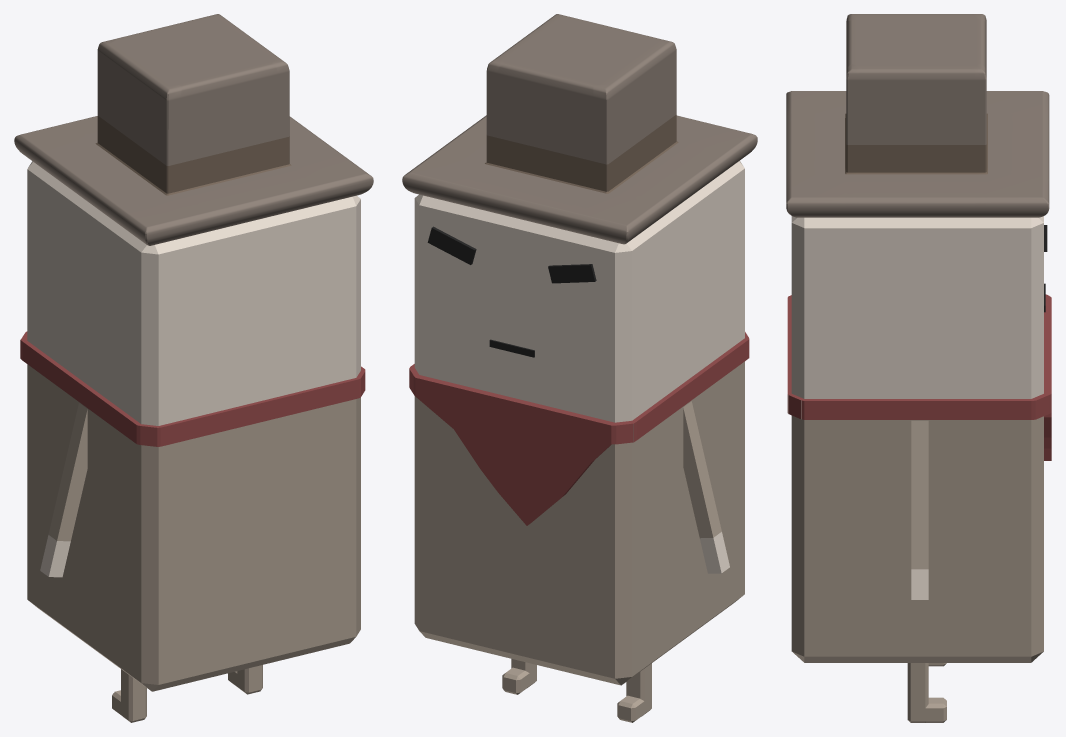
File: Character Model.fbx
3 renders of one model, left to right at view 1: azimuth 30°, elevation 25°; view 2: azimuth 150°, elevation 25°; view 3: azimuth 270°, elevation 25°, orthographic.
Visible parts, largest first — view 1: Body, Hat, pCube5, pCube2, pCube1; view 2: Body, Hat, pCube5, Left_Eyebrow, Right_Eyebrow, pCube2, pCube3, pCube4; view 3: Body, Hat, pCube6, pCube1, pCube3.
Boxes of the visible parts, x1=… form: Body: x1=20, y1=161, x2=365, y2=691; Hat: x1=14, y1=14, x2=373, y2=245; pCube5: x1=40, y1=403, x2=87, y2=577; pCube2: x1=121, y1=669, x2=146, y2=722; pCube1: x1=237, y1=665, x2=262, y2=694; Body: x1=409, y1=160, x2=749, y2=685; Hat: x1=402, y1=14, x2=757, y2=244; pCube5: x1=683, y1=401, x2=729, y2=573; Left_Eyebrow: x1=427, y1=226, x2=476, y2=264; Right_Eyebrow: x1=548, y1=264, x2=596, y2=283; pCube2: x1=626, y1=663, x2=651, y2=715; pCube3: x1=502, y1=667, x2=533, y2=694; pCube4: x1=617, y1=695, x2=644, y2=722; Body: x1=787, y1=216, x2=1051, y2=662; Hat: x1=786, y1=14, x2=1049, y2=217; pCube6: x1=911, y1=420, x2=928, y2=599; pCube1: x1=907, y1=663, x2=928, y2=722; pCube3: x1=916, y1=697, x2=946, y2=722.
Bounding box in the file's own units: 6.61 × 13.85 × 5.12.
